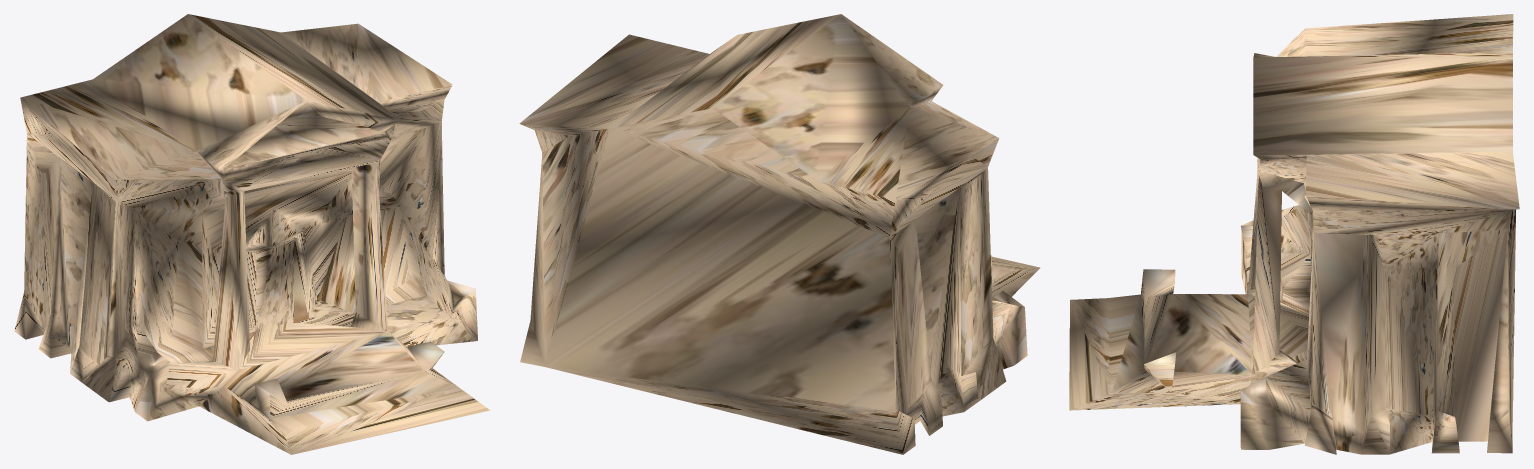
File: museum_building.glb
3 views of the same model, side by side, from view 1: azimuth 30°, elevation 25°; view 2: azimuth 150°, elevation 25°; view 3: azimuth 270°, elevation 25° (orthographic). The views are drawn at different scales.
Visible parts, largest first — view 1: museum_building; view 2: museum_building; view 3: museum_building.
Boxes of the visible parts, box(x1,y1,x2,y2) form: museum_building: box(14, 14, 490, 454); museum_building: box(519, 14, 1040, 454); museum_building: box(1069, 14, 1519, 454).
Bounding box in the file's own units: 1.88 × 1.42 × 1.91.
1 material, 1 textured.
